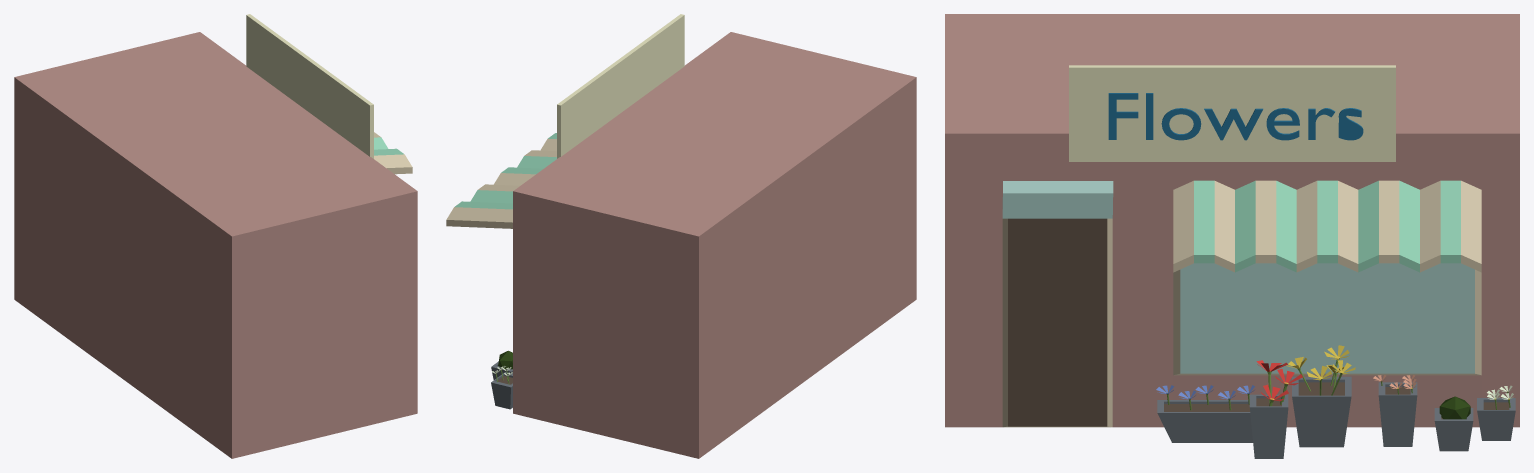
Rendered from FLORIST_REDUCED.fbx.
3 renders of one model, left to right at view 1: azimuth 30°, elevation 25°; view 2: azimuth 150°, elevation 25°; view 3: azimuth 270°, elevation 25°, orthographic. The views are drawn at different scales.
Visible parts, largest first — view 1: Flowers; view 2: Flowers; view 3: Flowers.
Part boxes in pixels (x1,y1,x2,y2): Flowers: (14, 14, 417, 458); Flowers: (446, 14, 916, 458); Flowers: (945, 14, 1519, 458).
Bounding box in the file's own units: 149 × 146 × 210.
